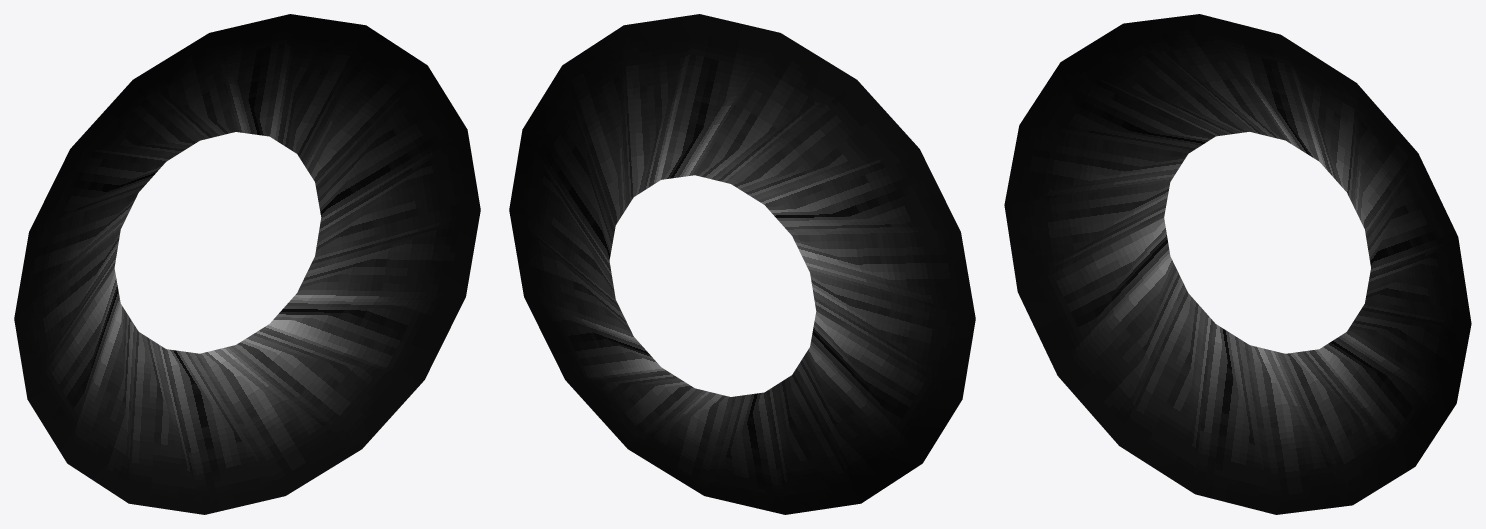
The model's file is Suhwanzin222.glb.
The picture shows the model from 3 angles, left to right: view 1: azimuth 30°, elevation 25°; view 2: azimuth 150°, elevation 25°; view 3: azimuth 330°, elevation 25°; orthographic projection.
Visible parts, largest first — view 1: model_Suhwanzin222; view 2: model_Suhwanzin222; view 3: model_Suhwanzin222.
Part boxes in pixels (box(x1,y1,x2,y2)): model_Suhwanzin222: box(14, 14, 480, 514); model_Suhwanzin222: box(509, 14, 975, 514); model_Suhwanzin222: box(1004, 14, 1471, 514).
Bounding box in the file's own units: 5.86 × 5.78 × 0.6434.
1 material, 1 textured.
